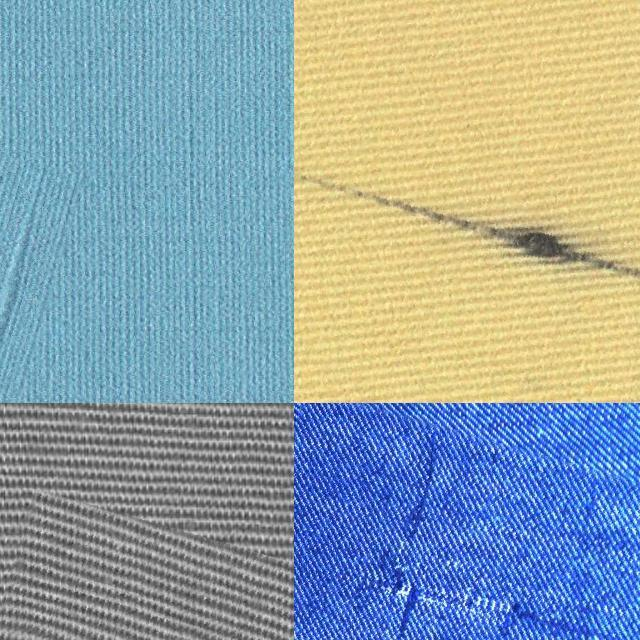stains: (294, 0, 640, 403), (294, 411, 640, 640), (0, 518, 294, 640), (0, 154, 67, 403)
